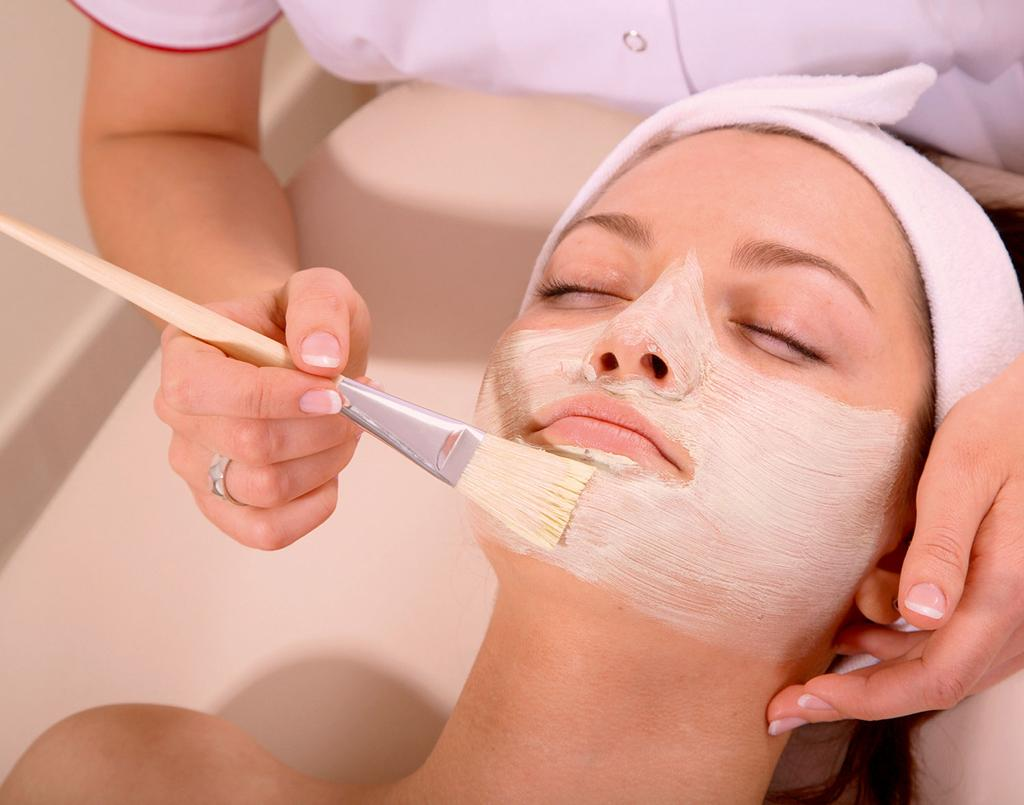face: (542, 138, 890, 518)
